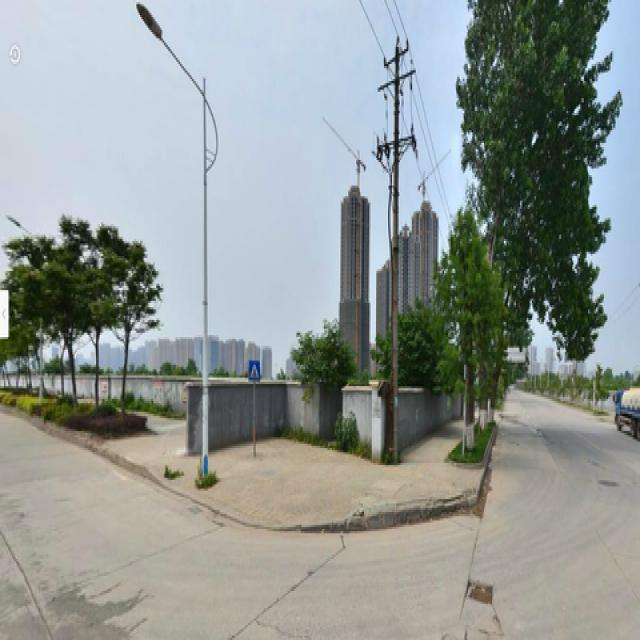koel: (101, 235, 148, 405)
